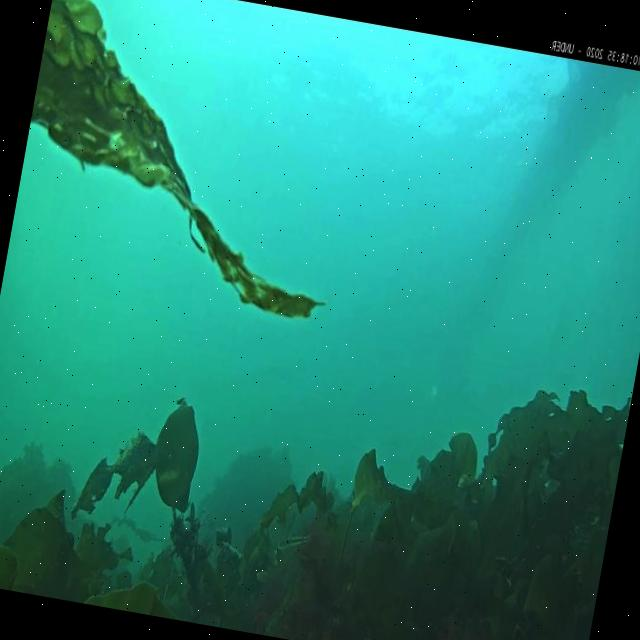fish: (282, 530, 308, 549)
